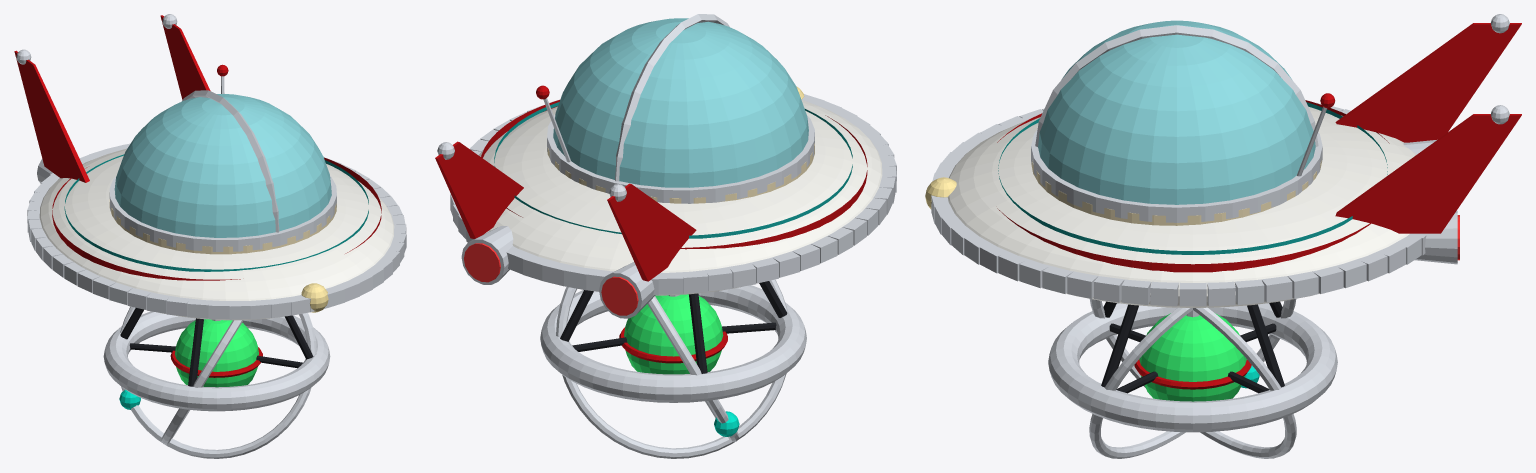
File: launch.obj
3 renders of one model, left to right at view 1: azimuth 30°, elevation 25°; view 2: azimuth 150°, elevation 25°; view 3: azimuth 270°, elevation 25°, orthographic. The views are drawn at different scales.
Parts seen in each view (by area): view 1: launch; view 2: launch; view 3: launch.
Boxes of the visible parts, x1,y1,x2,y2 form: launch: [14, 14, 406, 458]; launch: [435, 14, 896, 458]; launch: [925, 14, 1521, 458].
Size of the model in its own units: 70.81 by 73.66 by 90.
Materials: 1 (1 with a texture image).
